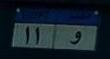1: (34, 26, 42, 46), (24, 25, 31, 46)
waw: (68, 30, 82, 46)
